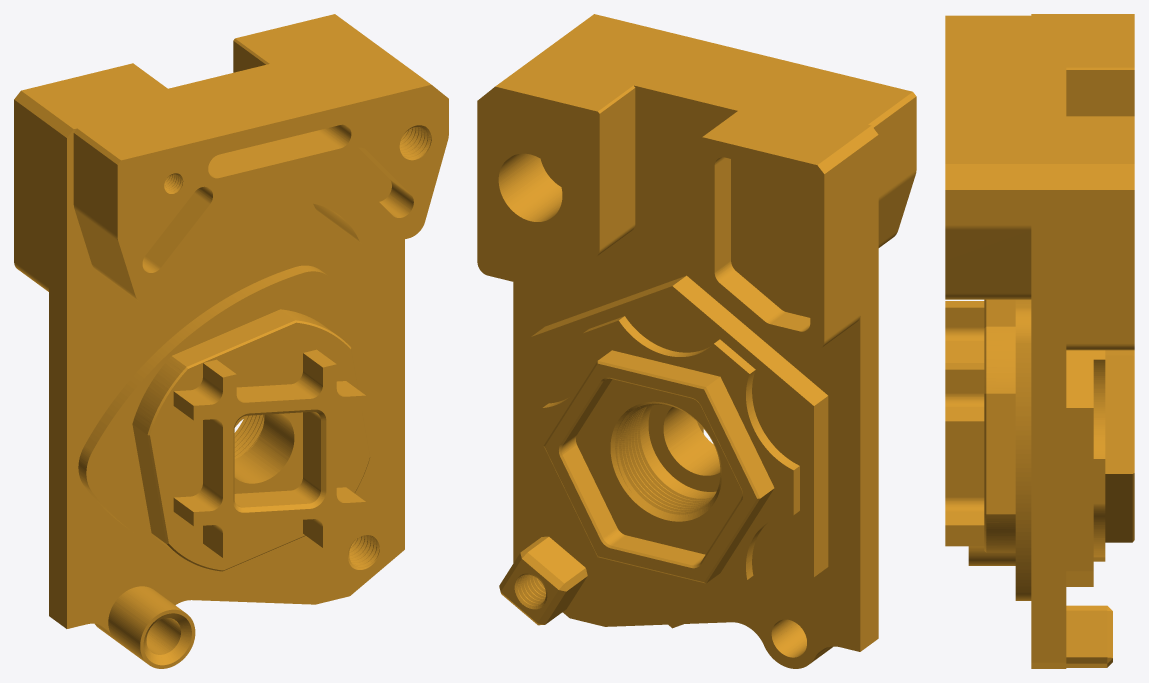
The picture shows the model from 3 angles, left to right: view 1: azimuth 30°, elevation 25°; view 2: azimuth 150°, elevation 25°; view 3: azimuth 270°, elevation 25°; orthographic projection. The views are drawn at different scales.
Bounding box in the file's own units: 98 × 148 × 48.5.
